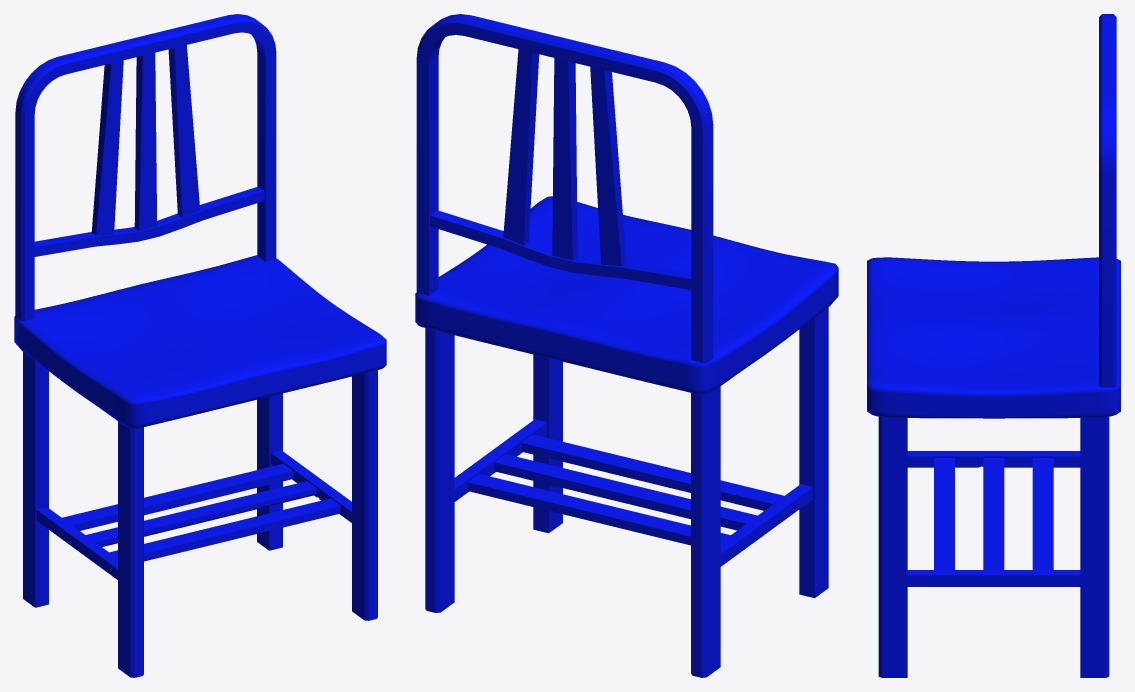
The model's file is Tutorial_Model_Environment_SteelChair.fbx.
The picture shows the model from 3 angles, left to right: view 1: azimuth 30°, elevation 25°; view 2: azimuth 150°, elevation 25°; view 3: azimuth 270°, elevation 25°; orthographic projection. The views are drawn at different scales.
Parts seen in each view (by area): view 1: Steel Chair; view 2: Steel Chair; view 3: Steel Chair.
Boxes of the visible parts, box(x1,y1,x2,y2) form: Steel Chair: box(14, 14, 386, 677); Steel Chair: box(415, 14, 838, 677); Steel Chair: box(867, 14, 1120, 677).
Bounding box in the file's own units: 24.63 × 48.05 × 19.99.
